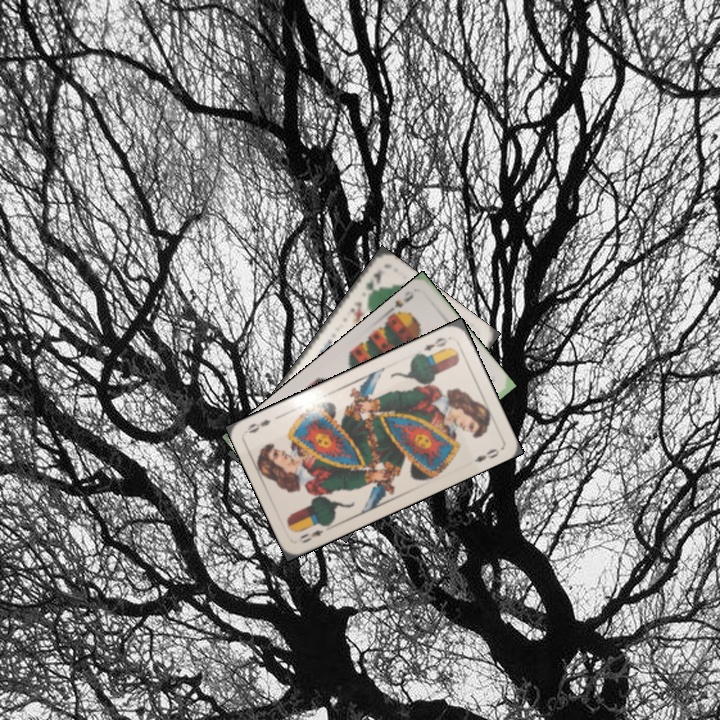EO: (419, 333, 450, 354), (295, 526, 326, 546)
GK: (361, 266, 385, 302)
S9: (383, 291, 416, 320)
